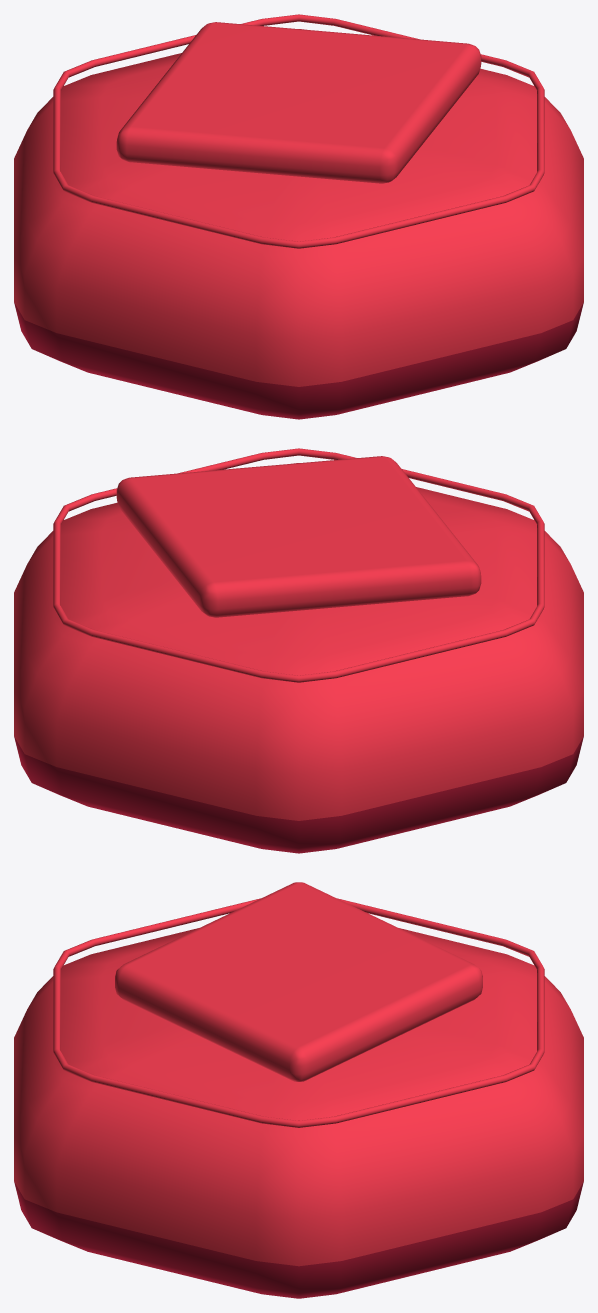
The model's file is HX_Stone_03_LightRed_ToneRelief_Blank.fbx.
3 renders of one model, top to bottom at view 1: azimuth 30°, elevation 25°; view 2: azimuth 150°, elevation 25°; view 3: azimuth 270°, elevation 25°, orthographic.
Parts seen in each view (by area): view 1: HX_V03_LightRed_Body, HX_ToneRelief_03, HX_V03_LightRed_InnerRim; view 2: HX_V03_LightRed_Body, HX_ToneRelief_03, HX_V03_LightRed_InnerRim; view 3: HX_V03_LightRed_Body, HX_ToneRelief_03, HX_V03_LightRed_InnerRim.
Part boxes in pixels (<box>): HX_V03_LightRed_Body: <box>14,29,583,419</box>; HX_ToneRelief_03: <box>116,22,481,183</box>; HX_V03_LightRed_InnerRim: <box>53,14,544,248</box>; HX_V03_LightRed_Body: <box>14,463,583,853</box>; HX_ToneRelief_03: <box>116,456,481,617</box>; HX_V03_LightRed_InnerRim: <box>53,448,544,682</box>; HX_V03_LightRed_Body: <box>14,928,583,1298</box>; HX_ToneRelief_03: <box>115,882,482,1081</box>; HX_V03_LightRed_InnerRim: <box>53,898,544,1127</box>.
Size of the model in its own units: 75.07 by 28.4 by 67.55.
